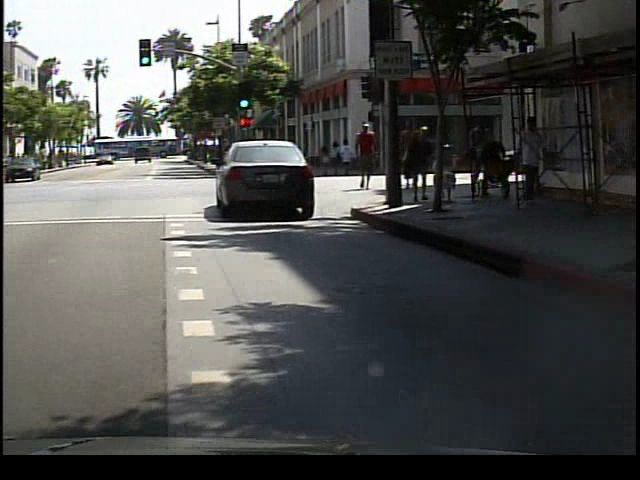person: (354, 117, 388, 199)
